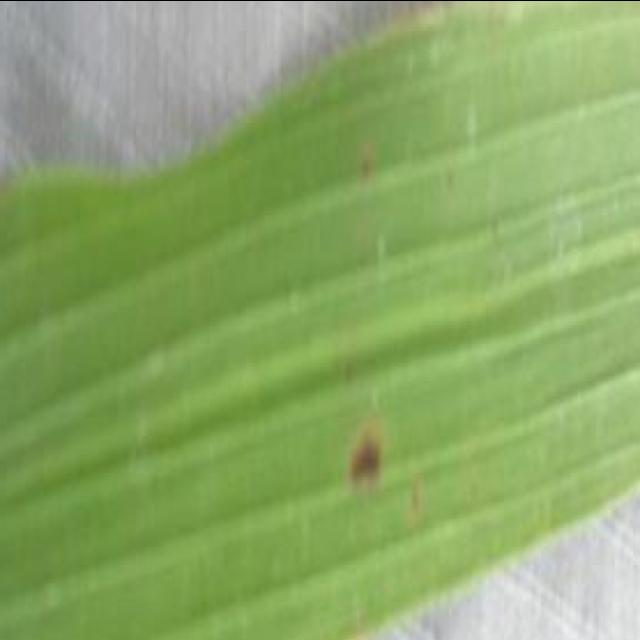Brown_Spot: (344, 419, 394, 493), (486, 204, 512, 247), (357, 145, 382, 187), (462, 468, 492, 500), (405, 479, 428, 518), (341, 348, 364, 382), (442, 159, 465, 189)
